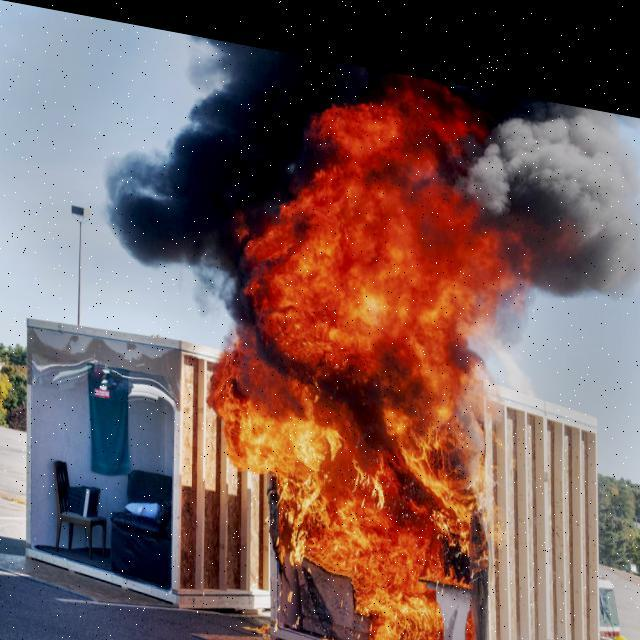Fire: (210, 51, 525, 639)
